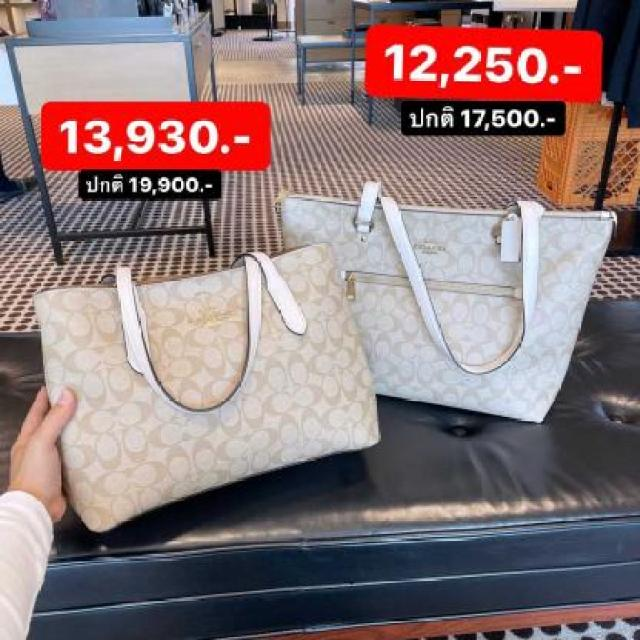Bag: (0, 242, 417, 553), (269, 188, 640, 455)
